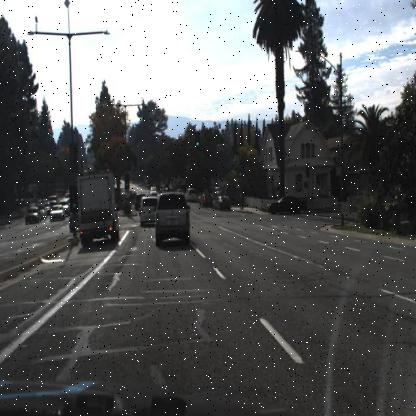car: (154, 193, 193, 251), (268, 194, 305, 216), (138, 191, 159, 227), (24, 206, 43, 227), (211, 192, 229, 212), (22, 208, 37, 224), (185, 186, 197, 202), (196, 193, 210, 206), (185, 187, 197, 201), (46, 192, 56, 207), (127, 190, 136, 200), (147, 190, 158, 198), (177, 188, 185, 198), (148, 184, 156, 192)
trafficLight-Green: (194, 129, 201, 149), (195, 130, 200, 149), (237, 165, 242, 179)
trafficLight-GreenLeft: (69, 184, 79, 213), (125, 174, 130, 190)
trafficLight-RedLeft: (123, 174, 131, 194)
truck: (76, 172, 118, 246)
